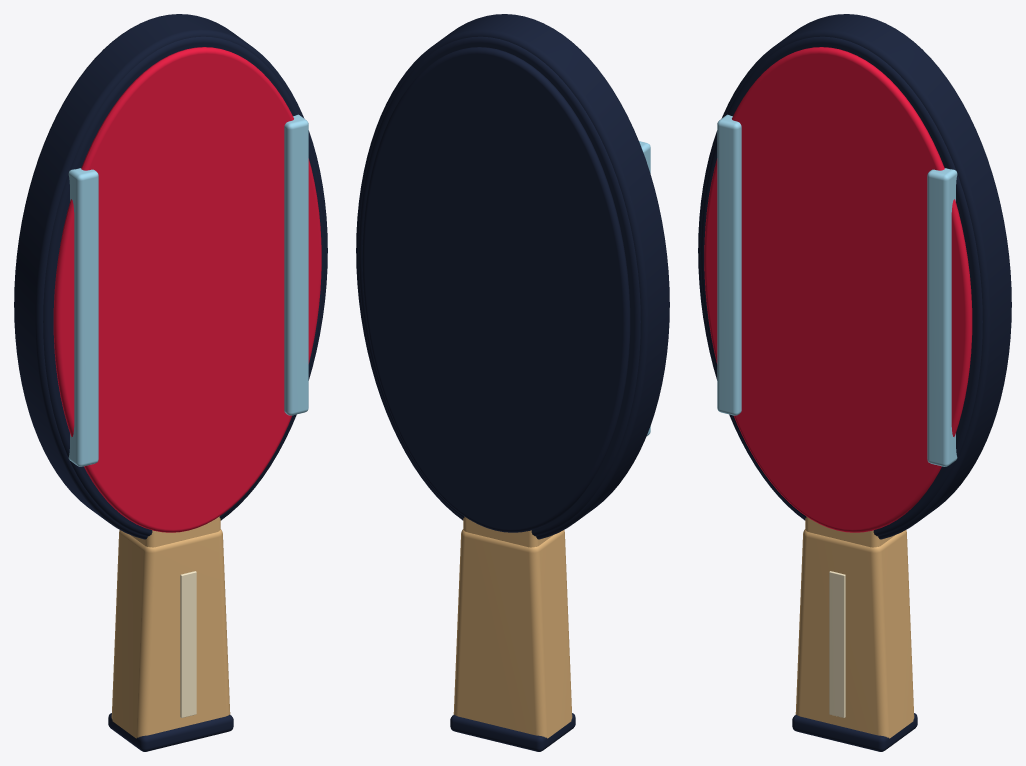
The model's file is LongSmash.fbx.
3 views of the same model, side by side, from view 1: azimuth 30°, elevation 25°; view 2: azimuth 150°, elevation 25°; view 3: azimuth 330°, elevation 25° (orthographic).
Visible parts, largest first — view 1: FrontRubber, OuterRim, WoodHandle, RimLip, PrecisionRail-1, PrecisionRail1, HandleInlay, HandleButt, Neck; view 2: BackRubber, WoodHandle, OuterRim, RimLip, HandleButt, Neck; view 3: FrontRubber, OuterRim, WoodHandle, RimLip, PrecisionRail1, PrecisionRail-1, HandleInlay, HandleButt, Neck.
Boxes of the visible parts, x1,y1,x2,y2 form: FrontRubber: (53,47,321,532); OuterRim: (14,14,327,539); WoodHandle: (111,529,230,738); RimLip: (43,36,325,536); PrecisionRail-1: (68,168,98,466); PrecisionRail1: (284,114,308,415); HandleInlay: (180,571,196,717); HandleButt: (108,713,233,751); Neck: (130,516,220,547); BackRubber: (362,47,630,532); WoodHandle: (453,529,572,738); OuterRim: (356,14,669,539); RimLip: (358,36,640,536); HandleButt: (450,713,575,751); Neck: (463,516,553,547); FrontRubber: (704,47,972,532); OuterRim: (698,14,1011,539); WoodHandle: (795,529,914,738); RimLip: (700,36,982,536); PrecisionRail1: (927,168,957,466); PrecisionRail-1: (717,114,741,415); HandleInlay: (829,571,845,717); HandleButt: (792,713,917,751); Neck: (805,516,895,547).
Size of the model in its own units: 47 by 109 by 11.98.
